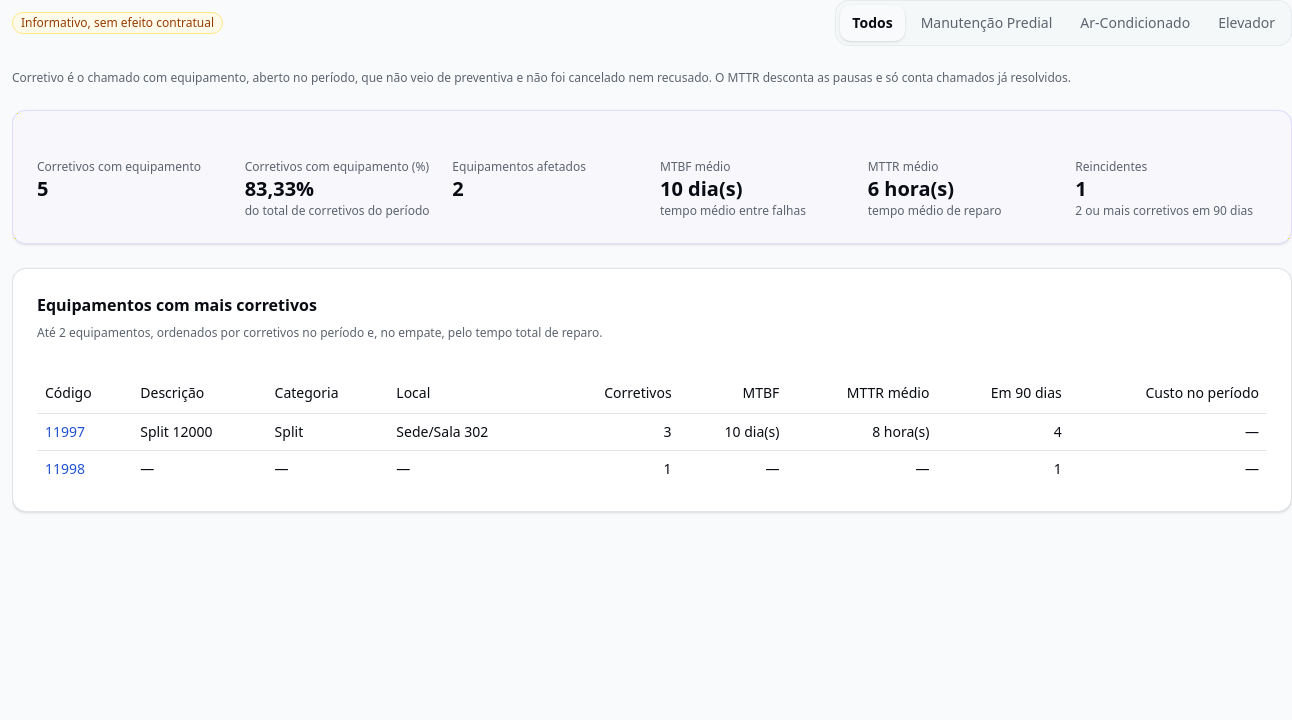
Test case: ImrAtivos › o seletor troca a vista sem recarregar (AC-15)
Click the button "Ar-Condicionado" at (1135, 23), box [1068, 5, 1202, 41]
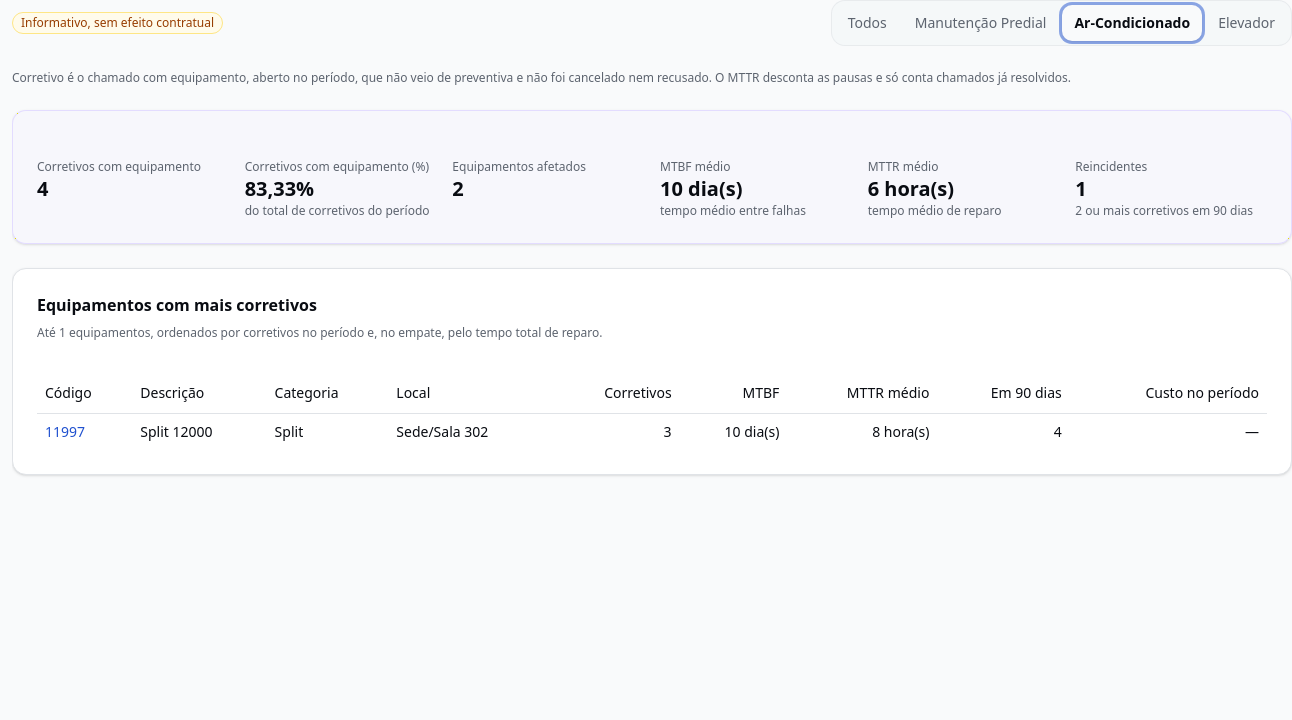
Check: the text "4" is shown, box [37, 175, 48, 202]
Check: the link "11998" is gone
